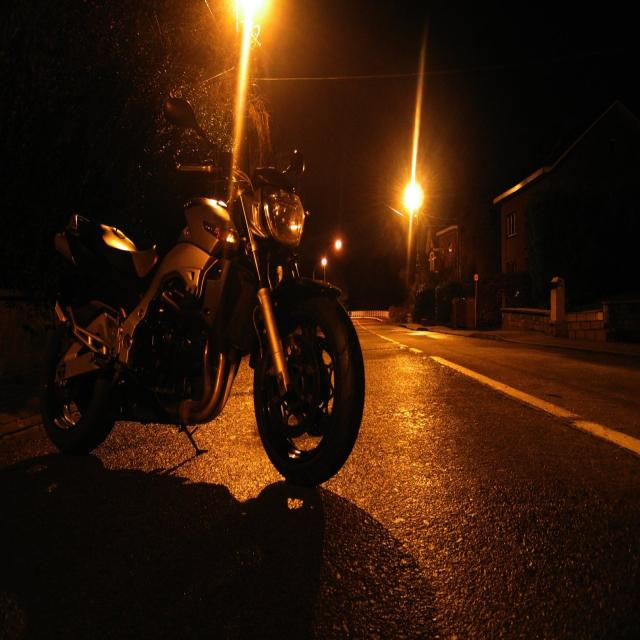Motorbike: (41, 117, 401, 530)
